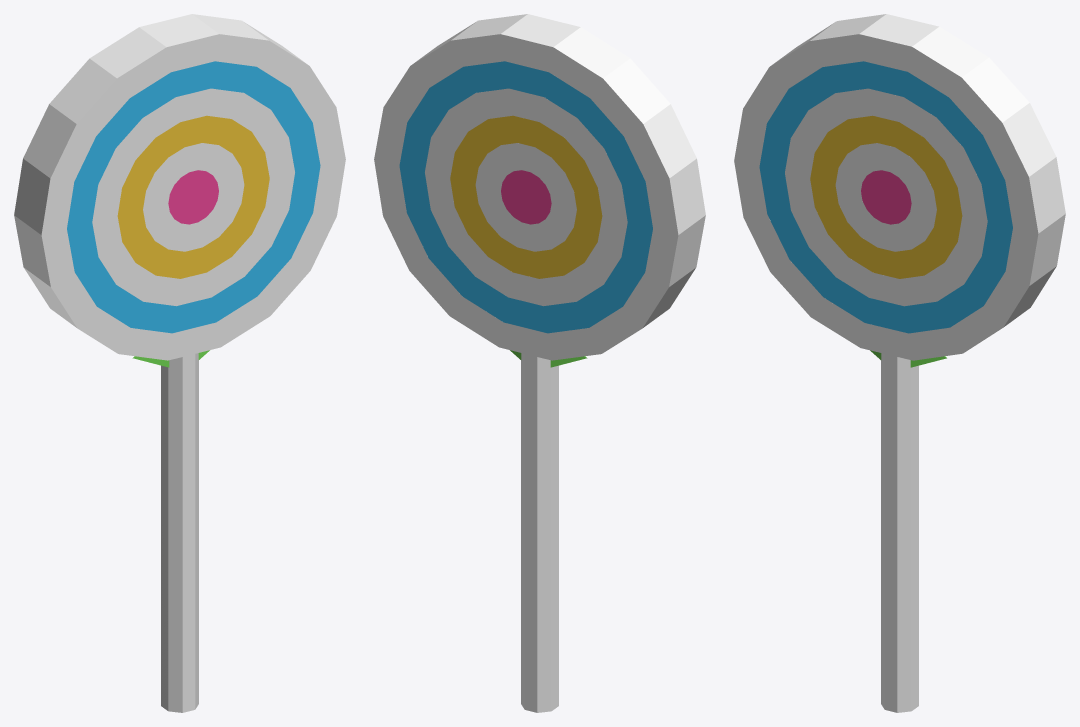
File: lollipop_tree.fbx
3 renders of one model, left to right at view 1: azimuth 30°, elevation 25°; view 2: azimuth 150°, elevation 25°; view 3: azimuth 330°, elevation 25°, orthographic.
Visible parts, largest first — view 1: Swirl2, Swirl7, Stick, Swirl5, Swirl3; view 2: Swirl2, Swirl7, Stick, Swirl5, Swirl3; view 3: Swirl2, Swirl7, Stick, Swirl5, Swirl3.
Boxes of the visible parts, x1,y1,x2,y2 form: Swirl2: (14, 14, 345, 360); Swirl7: (67, 61, 320, 333); Stick: (161, 353, 198, 712); Swirl5: (117, 115, 269, 278); Swirl3: (168, 170, 218, 224); Swirl2: (374, 14, 705, 360); Swirl7: (399, 61, 652, 333); Stick: (521, 353, 558, 712); Swirl5: (450, 115, 602, 278); Swirl3: (501, 170, 551, 224); Swirl2: (734, 14, 1065, 360); Swirl7: (759, 61, 1012, 333); Stick: (881, 353, 918, 712); Swirl5: (810, 115, 962, 278); Swirl3: (861, 170, 911, 224).
Size of the model in its own units: 6.4 by 13.55 by 1.
